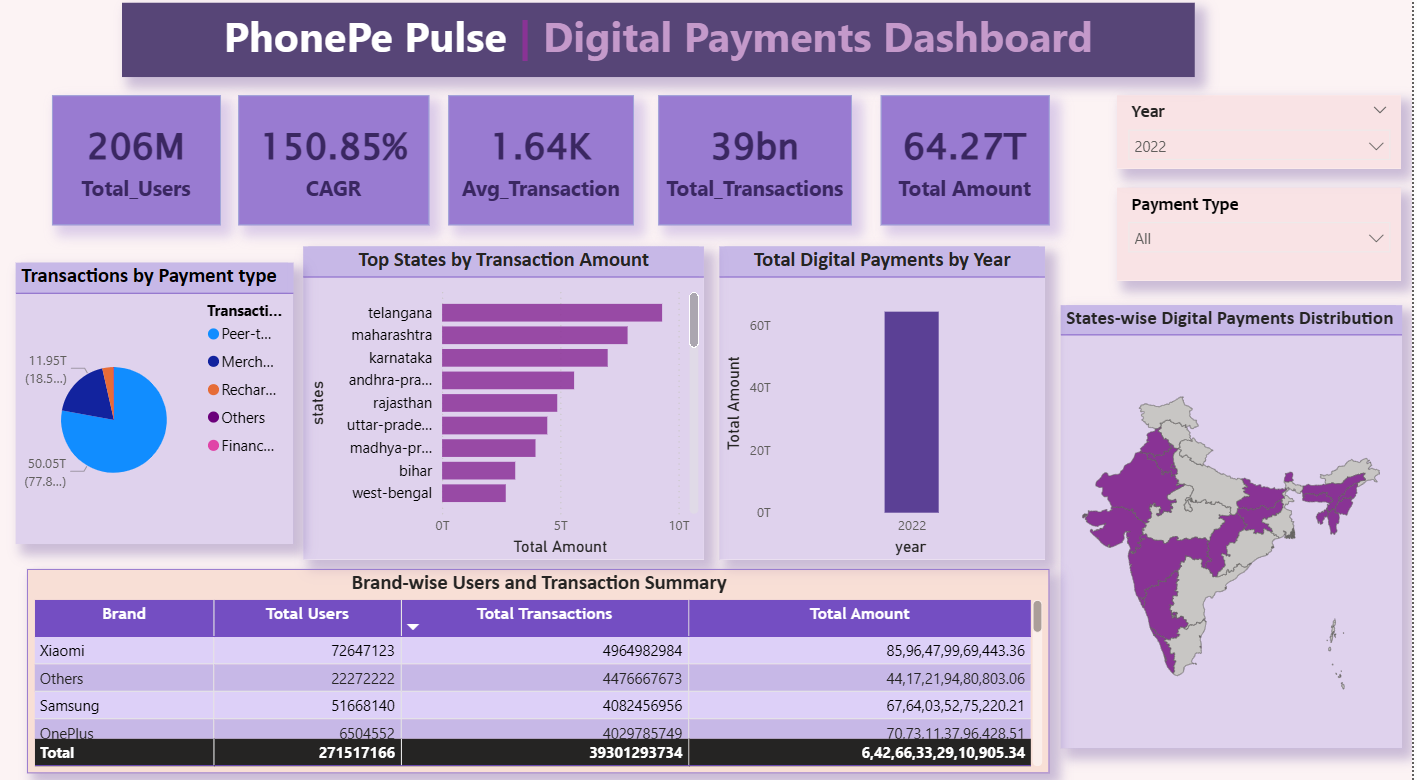

Layout of this report page (visuals, bound fields, positions):
{"tool":"powerbi","page":{"name":"Page 1","canvas":[1280,720],"ordinal":0},"visuals":[{"type":"shapeMap","title":"States-wise Digital Payments Distribution","fields":{"Category":["aggregated_transaction.states"]},"box":[961.8,285.8,308.6,401.1],"z":0},{"type":"columnChart","title":"Total Digital Payments by Year","fields":{"Category":["aggregated_transaction.year"],"Y":["aggregated_transaction.Total_amt"]},"box":[653.2,232.9,294.2,283.4],"z":1000},{"type":"clusteredBarChart","title":"Top States by Transaction Amount","fields":{"Category":["aggregated_transaction.states"],"Y":["aggregated_transaction.Total_amt"]},"box":[277.4,232.9,362.6,283.4],"z":2000},{"type":"pieChart","title":"Transactions by Payment type","fields":{"Category":["aggregated_transaction.trans_type"],"Y":["aggregated_transaction.Total_amt"]},"box":[16.8,247.4,251,254.6],"z":3000},{"type":"tableEx","title":"Brand-wise Users and Transaction Summary","fields":{"Values":["aggregated_user.brand","Sum(aggregated_user.user_counts)","aggregated_transaction.Total Transactions","aggregated_transaction.Total_amt"]},"box":[27.6,524.7,924.6,184.9],"z":4000},{"type":"textbox","box":[113.1,11.9,970.4,67],"z":5000},{"type":"slicer","fields":{"Values":["aggregated_transaction.year"]},"box":[1013.4,96.1,257,66],"z":6000},{"type":"slicer","fields":{"Values":["aggregated_transaction.trans_type"]},"box":[1013.4,180.1,257,84.1],"z":7000},{"type":"card","fields":{"Values":["map_user.Total Users"]},"box":[49.2,96.1,152.5,117.7],"z":8000},{"type":"card","fields":{"Values":["aggregated_transaction.CAGR"]},"box":[218.2,96.1,173,117.6],"z":9000},{"type":"card","fields":{"Values":["aggregated_transaction.Avg_Transaction"]},"box":[408.3,96.1,168.1,117.7],"z":10000},{"type":"card","fields":{"Values":["aggregated_transaction.Total Transactions"]},"box":[598,96.1,175.3,117.7],"z":11000},{"type":"card","fields":{"Values":["aggregated_transaction.Total_amt"]},"box":[799.7,96.1,152.5,117.7],"z":12000}]}

Visuals, with their boxes in screenshot pixels (x1, y1, x2, y2), scaled from the page's 1280x720 canvas onto the 1417x780 screenshot:
"States-wise Digital Payments Distribution" shapeMap: BBox(1065, 310, 1406, 744)
"Total Digital Payments by Year" columnChart: BBox(723, 252, 1049, 559)
"Top States by Transaction Amount" clusteredBarChart: BBox(307, 252, 708, 559)
"Transactions by Payment type" pieChart: BBox(19, 268, 296, 544)
"Brand-wise Users and Transaction Summary" tableEx: BBox(31, 568, 1054, 769)
textbox: BBox(125, 13, 1199, 85)
slicer - aggregated_transaction.year: BBox(1122, 104, 1406, 176)
slicer - aggregated_transaction.trans_type: BBox(1122, 195, 1406, 286)
card - map_user.Total Users: BBox(54, 104, 223, 232)
card - aggregated_transaction.CAGR: BBox(242, 104, 433, 232)
card - aggregated_transaction.Avg_Transaction: BBox(452, 104, 638, 232)
card - aggregated_transaction.Total Transactions: BBox(662, 104, 856, 232)
card - aggregated_transaction.Total_amt: BBox(885, 104, 1054, 232)
